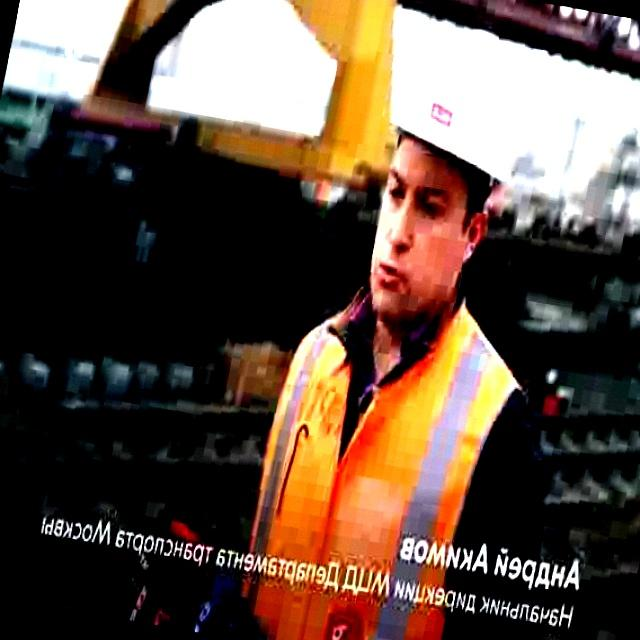helmet: (389, 47, 522, 193)
safety_vest: (252, 313, 528, 638)
